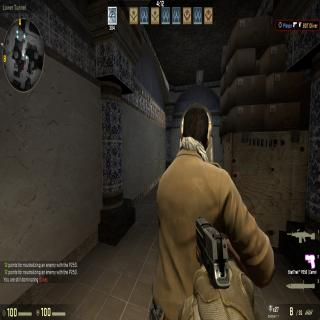T-Body: (149, 105, 265, 320)
T-Head: (177, 102, 213, 163)
